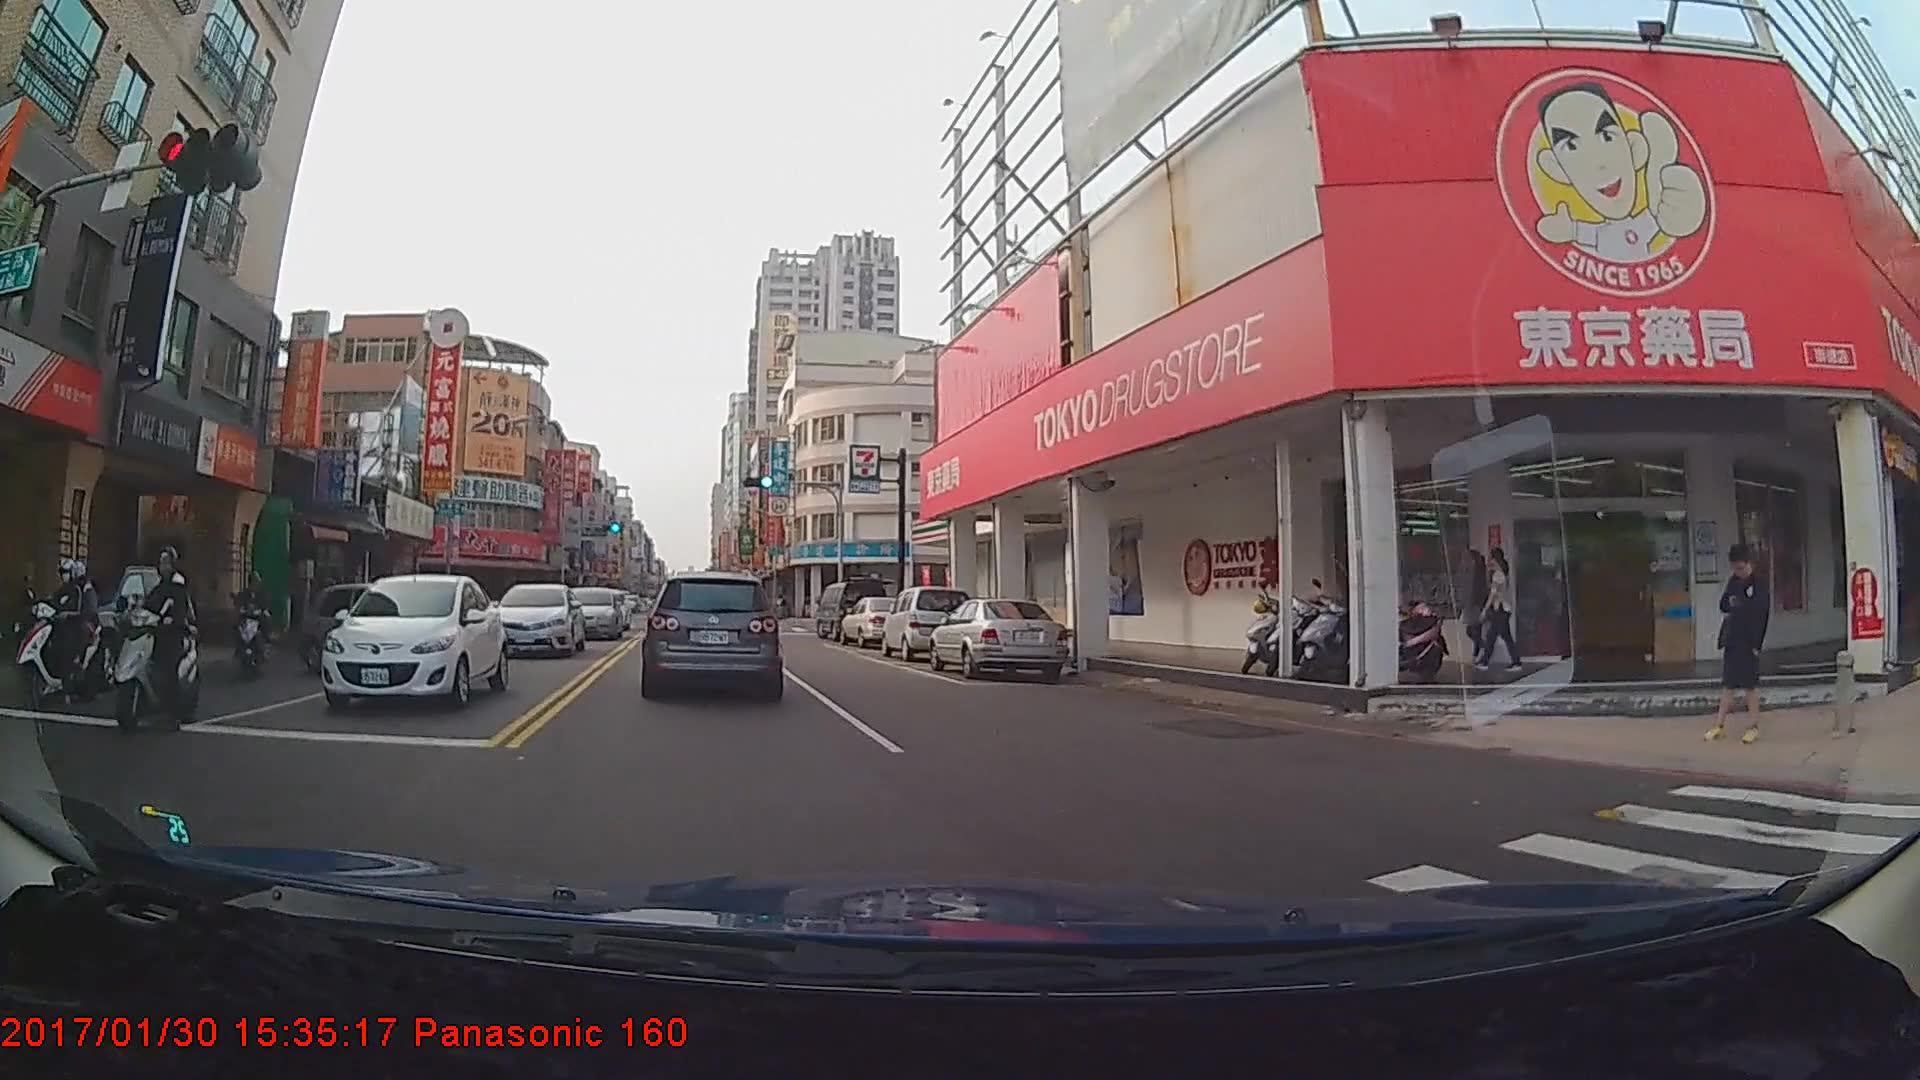pedestrian: (1702, 543, 1773, 744), (1470, 543, 1520, 678), (1463, 547, 1499, 665)
rider: (101, 548, 212, 736), (10, 559, 124, 708)
vehicle: (319, 573, 508, 713), (7, 562, 196, 693), (645, 574, 779, 700), (926, 594, 1068, 682), (878, 585, 973, 661), (489, 581, 585, 656), (819, 582, 883, 639), (840, 597, 914, 643), (562, 586, 621, 639)
